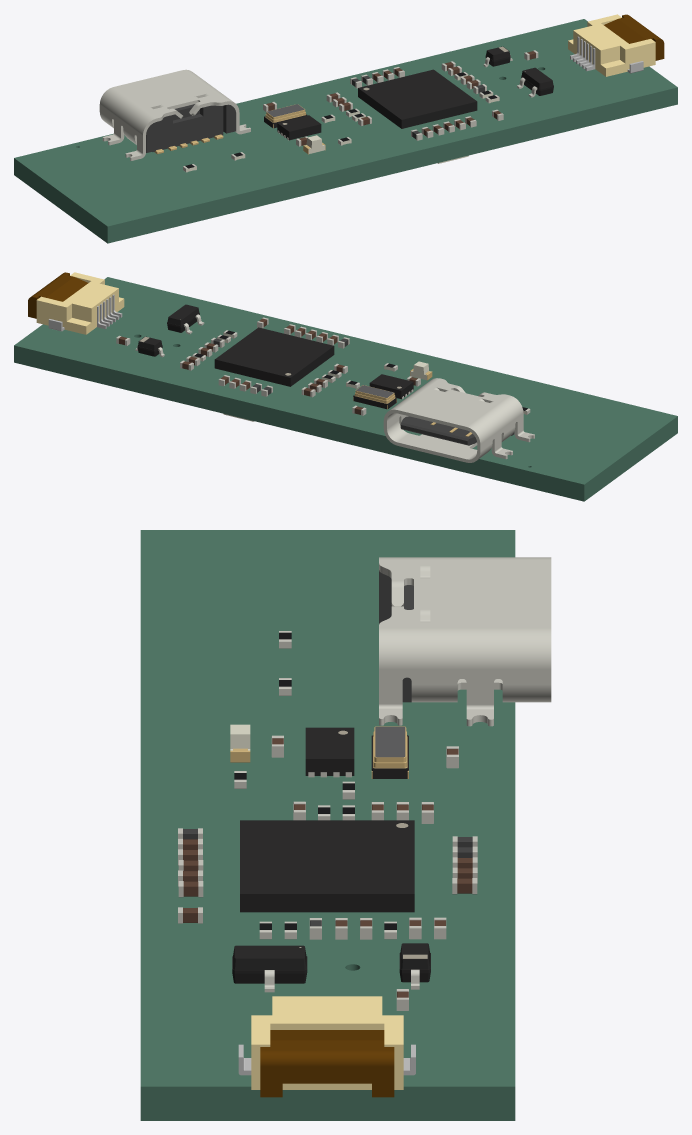
The model's file is EyeReader_3D.glb.
3 renders of one model, top to bottom at view 1: azimuth 30°, elevation 25°; view 2: azimuth 150°, elevation 25°; view 3: azimuth 270°, elevation 25°, orthographic. The views are drawn at different scales.
Parts seen in each view (by area): view 1: =>[0:1:1:29], =>[0:1:1:13], =>[0:1:1:17], body, lock, =>[0:1:1:26], =>[0:1:1:19], pins, =>[0:1:1:5], =>[0:1:1:7]; view 2: =>[0:1:1:29], =>[0:1:1:13], =>[0:1:1:17], body, lock, =>[0:1:1:5], =>[0:1:1:19], pins, =>[0:1:1:26], =>[0:1:1:7]; view 3: =>[0:1:1:29], =>[0:1:1:13], =>[0:1:1:17], lock, body, =>[0:1:1:19], =>[0:1:1:26], =>[0:1:1:5], =>[0:1:1:7].
Part boxes in pixels (<box>): =>[0:1:1:29]: <box>14,19,677,243</box>; =>[0:1:1:13]: <box>99,69,250,160</box>; =>[0:1:1:17]: <box>358,69,477,128</box>; body: <box>568,14,655,76</box>; lock: <box>604,14,664,60</box>; =>[0:1:1:26]: <box>277,115,321,140</box>; =>[0:1:1:19]: <box>517,67,553,97</box>; pins: <box>570,36,643,73</box>; =>[0:1:1:5]: <box>264,104,307,128</box>; =>[0:1:1:7]: <box>483,46,512,67</box>; =>[0:1:1:29]: <box>14,277,677,501</box>; =>[0:1:1:13]: <box>383,378,534,462</box>; =>[0:1:1:17]: <box>214,327,334,386</box>; body: <box>36,272,124,334</box>; lock: <box>28,272,88,318</box>; =>[0:1:1:5]: <box>353,385,396,409</box>; =>[0:1:1:19]: <box>167,304,204,334</box>; pins: <box>48,294,122,331</box>; =>[0:1:1:26]: <box>369,374,413,399</box>; =>[0:1:1:7]: <box>135,336,164,357</box>; =>[0:1:1:29]: <box>140,530,515,1120</box>; =>[0:1:1:13]: <box>379,557,551,726</box>; =>[0:1:1:17]: <box>240,820,414,912</box>; lock: <box>260,1030,394,1097</box>; body: <box>251,996,403,1089</box>; =>[0:1:1:19]: <box>232,945,307,992</box>; =>[0:1:1:26]: <box>305,727,354,777</box>; =>[0:1:1:5]: <box>371,726,408,778</box>; =>[0:1:1:7]: <box>399,943,430,989</box>.
Size of the model in its own units: 0.0542 by 0.0079 by 0.0165.
